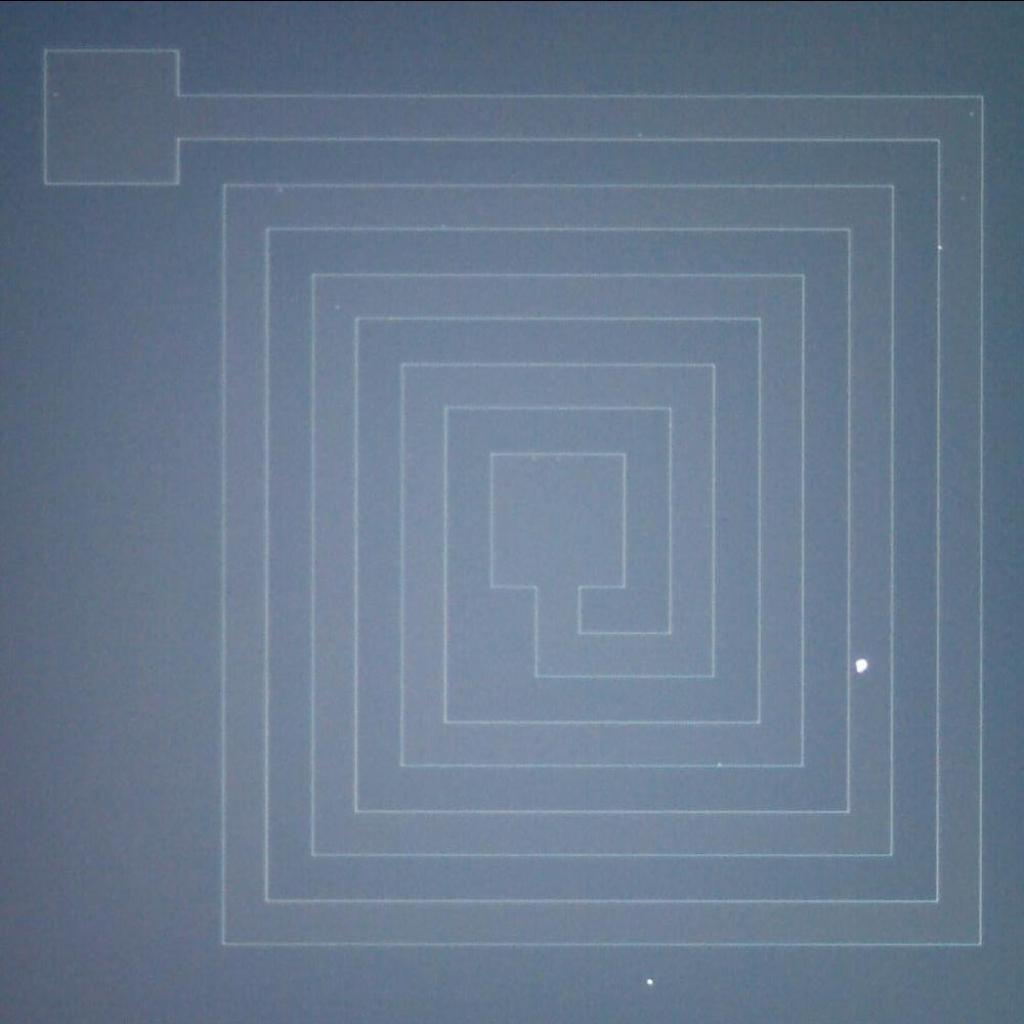dot: (635, 966, 669, 996)
spot: (846, 648, 877, 680)
